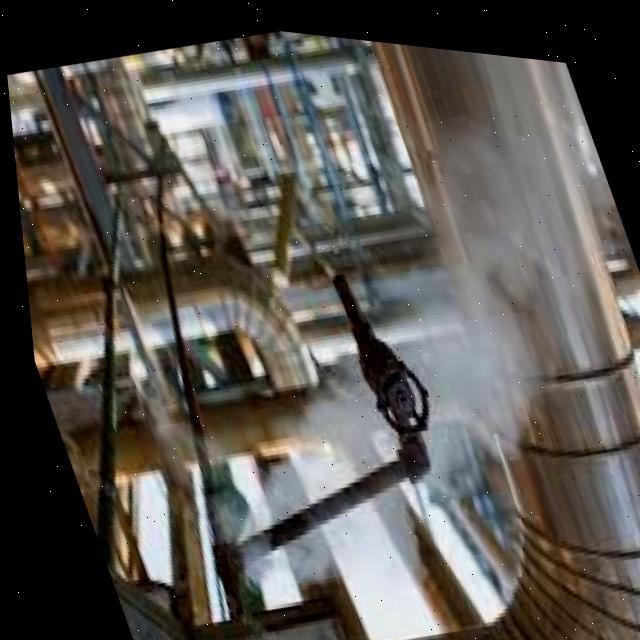corrosion: (285, 204, 555, 516), (166, 424, 343, 637)
